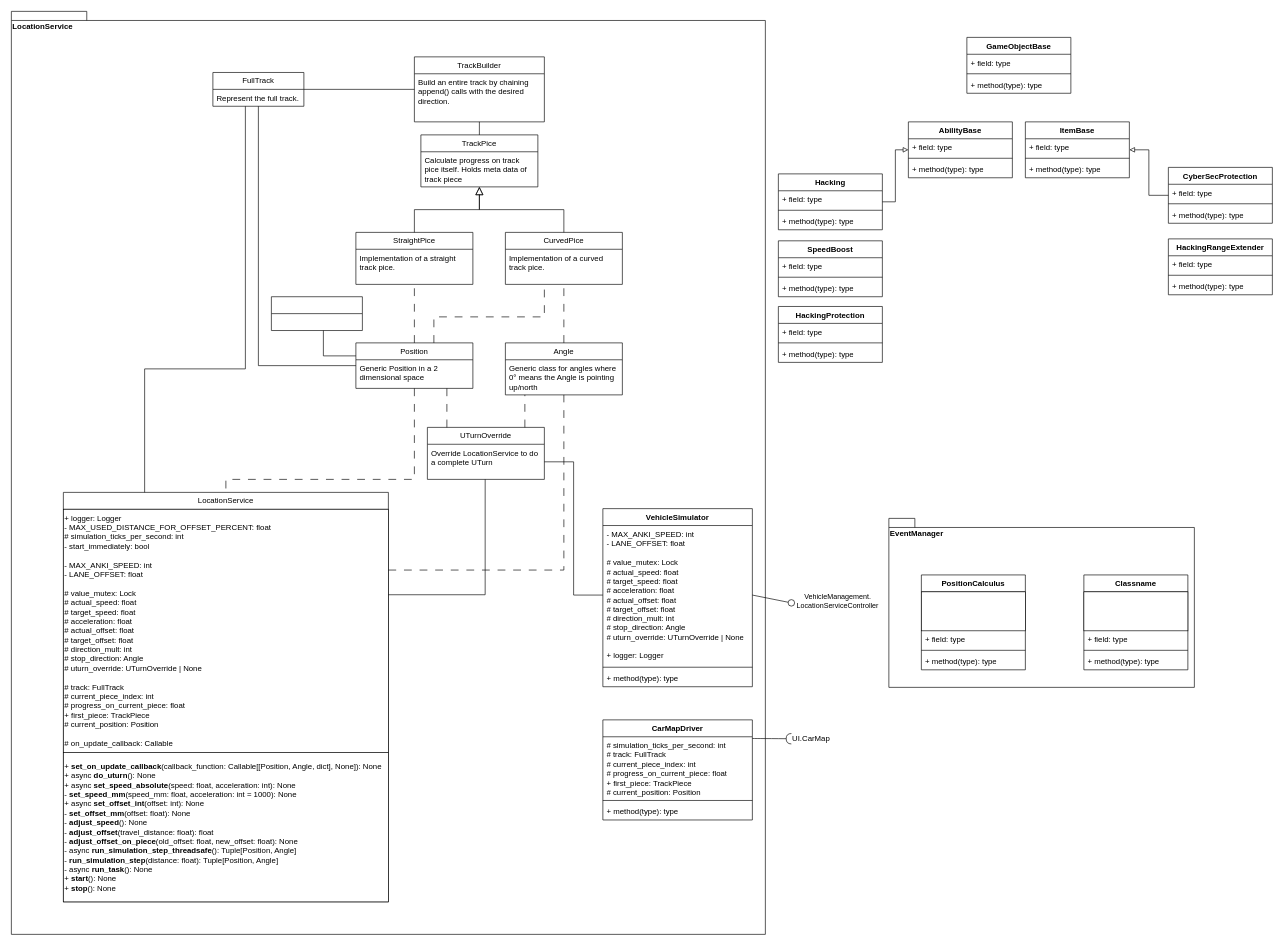
This 1284x946 diagram has some shape labels left out. The centre of each missing label's shape, as x and y in pixels:
"Calculates the relative distance and direction of the game objects" belongs at point (973, 611).
"Informs the game objects about their readiness according to their ability list" belongs at point (1135, 611).
"TrackEntry" belongs at point (316, 313).
